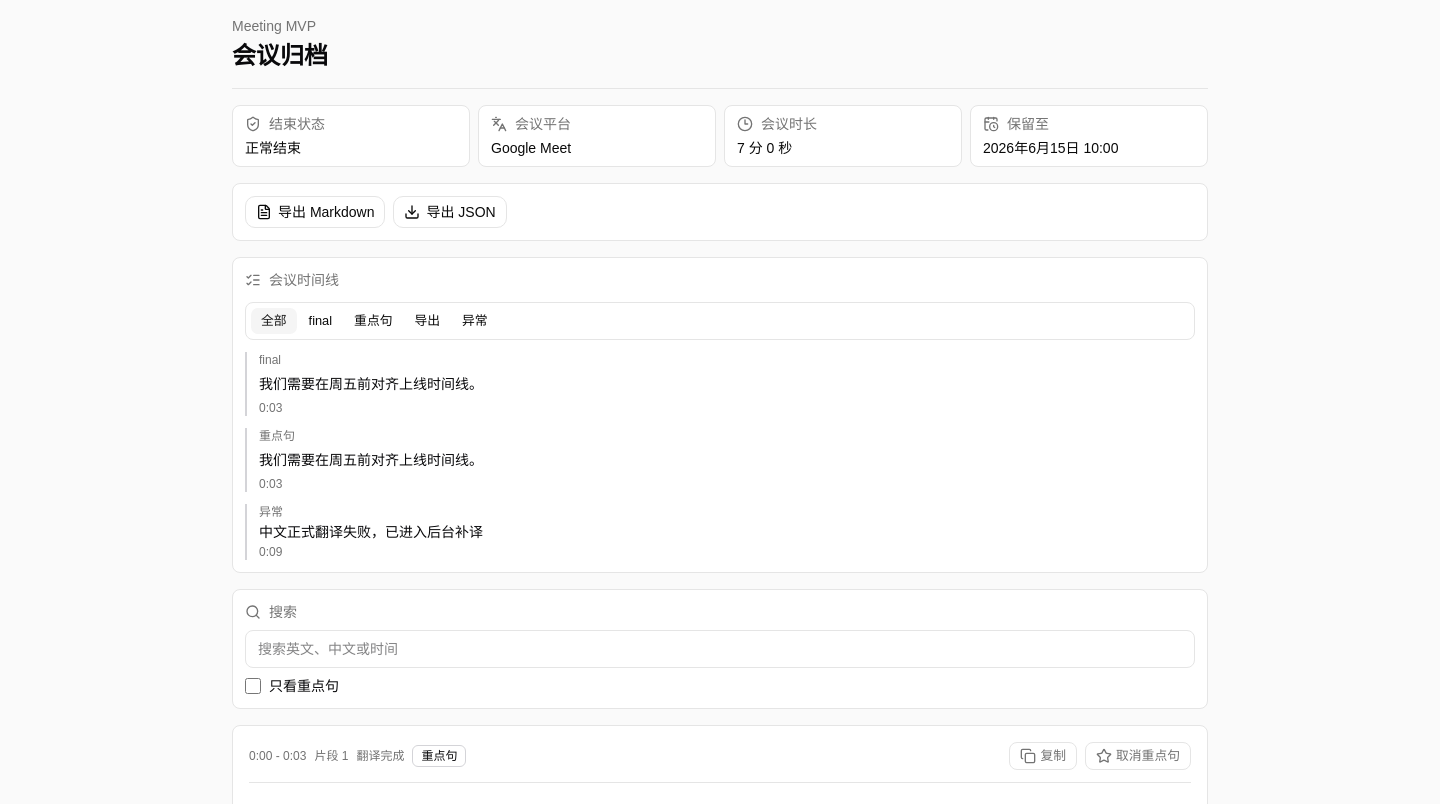
Test case: ArchivePage › shows empty export rejection guidance without clearing archive content
Click the button "导出 JSON" at (450, 212), box top-left (394, 196), bottom-right (507, 228)
(page scrolled)
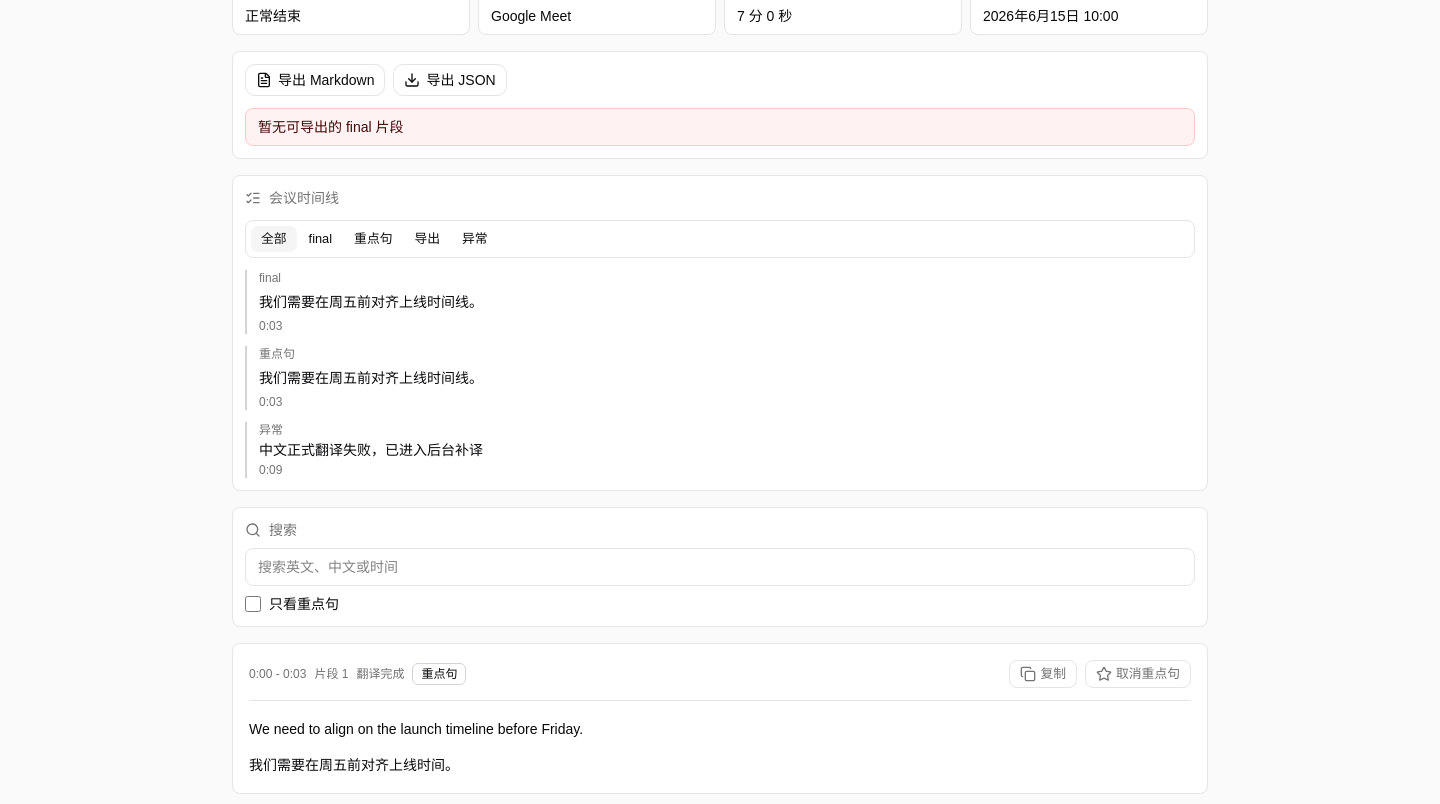
Expected: the text "我们需要在周五前对齐上线时间。" is shown, top-left (249, 757), bottom-right (459, 773)
Expected: the message reads "暂无可导出的 final 片段", top-left (258, 119), bottom-right (404, 135)
